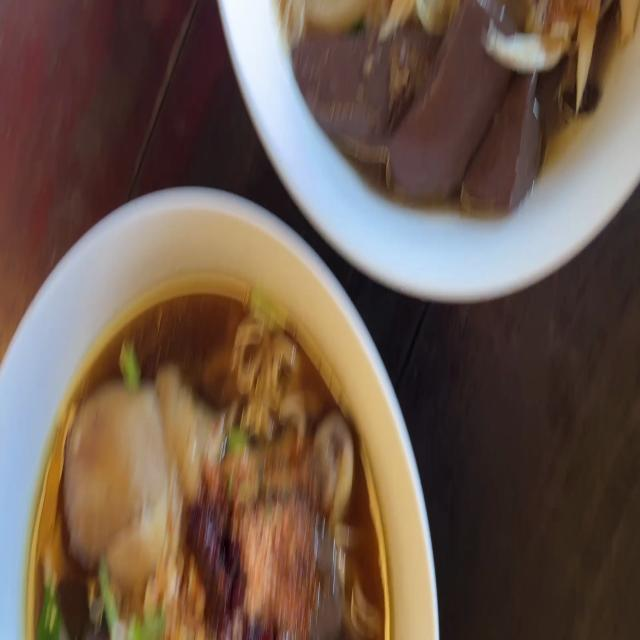boiled_chicken_blood_jelly: (295, 20, 537, 208), (313, 544, 343, 632)
chicken_drumstick: (66, 383, 357, 554)
chicken_shredded: (576, 0, 602, 112)
noodle: (38, 314, 371, 640), (276, 0, 612, 212)
